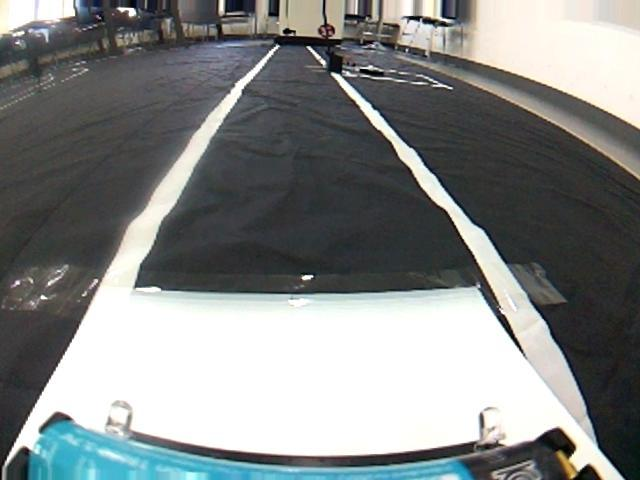hill_down: (2, 277, 623, 468)
